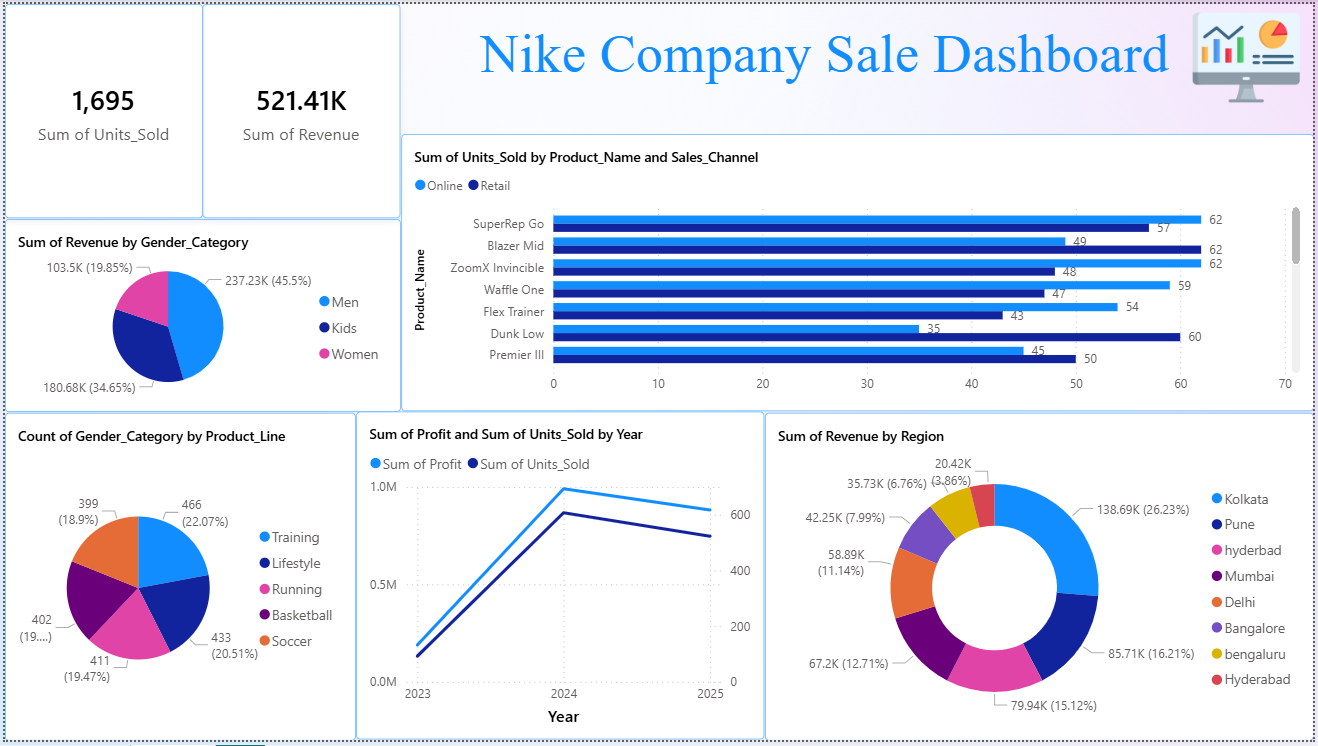

The page's visual inventory and layout, read from the dashboard file:
{"tool":"powerbi","page":{"name":"Sales ","canvas":[1280,720],"ordinal":0},"visuals":[{"type":"clusteredBarChart","fields":{"Category":["Nike_Sales_Uncleaned.Product_Name"],"Y":["Sum(Nike_Sales_Uncleaned.Units_Sold)"],"Series":["Nike_Sales_Uncleaned.Sales_Channel"]},"box":[387.5,127.5,892.5,271.2],"z":0},{"type":"pieChart","fields":{"Category":["Nike_Sales_Uncleaned.Gender_Category"],"Y":["Sum(Nike_Sales_Uncleaned.Revenue)"]},"box":[0,210,387.5,188.8],"z":1000},{"type":"lineChart","fields":{"Category":["Nike_Sales_Uncleaned.Order_Date.Variation.Date Hierarchy.Year"],"Y":["Sum(Nike_Sales_Uncleaned.Profit)"],"Y2":["Sum(Nike_Sales_Uncleaned.Units_Sold)"]},"box":[343.1,398.9,399.3,321.1],"z":2000},{"type":"donutChart","fields":{"Category":["Nike_Sales_Uncleaned.Region"],"Y":["Sum(Nike_Sales_Uncleaned.Revenue)"]},"box":[743.7,399.3,536.5,321.1],"z":3000},{"type":"pieChart","fields":{"Category":["Nike_Sales_Uncleaned.Product_Line"],"Y":["CountNonNull(Nike_Sales_Uncleaned.Gender_Category)"]},"box":[0,399.3,343.1,321.1],"z":4000},{"type":"card","fields":{"Values":["Sum(Nike_Sales_Uncleaned.Units_Sold)"]},"box":[0,0,193.5,209.9],"z":5000},{"type":"card","fields":{"Values":["Sum(Nike_Sales_Uncleaned.Revenue)"]},"box":[193.5,0,193.5,209.9],"z":6000},{"type":"textbox","box":[459.7,13.7,749.2,78.2],"z":7000},{"type":"image","box":[1148.2,0,132.1,105.2],"z":7001}]}

Visuals, with their boxes in screenshot pixels (x1, y1, x2, y2), scaled from the page's 1280x720 canvas onto the 1318x746 screenshot:
clusteredBarChart - Nike_Sales_Uncleaned.Product_Name x Sum(Nike_Sales_Uncleaned.Units_Sold): bbox(399, 132, 1317, 413)
pieChart - Nike_Sales_Uncleaned.Gender_Category x Sum(Nike_Sales_Uncleaned.Revenue): bbox(0, 218, 399, 413)
lineChart - Nike_Sales_Uncleaned.Order_Date.Variation.Date Hierarchy.Year x Sum(Nike_Sales_Uncleaned.Profit): bbox(353, 413, 764, 745)
donutChart - Nike_Sales_Uncleaned.Region x Sum(Nike_Sales_Uncleaned.Revenue): bbox(766, 414, 1317, 745)
pieChart - Nike_Sales_Uncleaned.Product_Line x CountNonNull(Nike_Sales_Uncleaned.Gender_Category): bbox(0, 414, 353, 745)
card - Sum(Nike_Sales_Uncleaned.Units_Sold): bbox(0, 0, 199, 217)
card - Sum(Nike_Sales_Uncleaned.Revenue): bbox(199, 0, 398, 217)
textbox: bbox(473, 14, 1245, 95)
image: bbox(1182, 0, 1317, 109)
